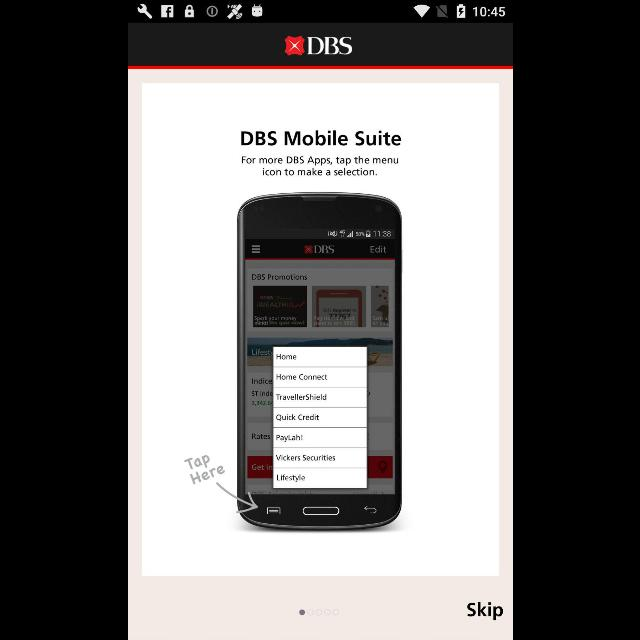image: (184, 192, 402, 532), (284, 36, 304, 56)
pageindicator: (298, 608, 339, 616)
text: (240, 156, 398, 176), (241, 130, 401, 146), (307, 37, 351, 55), (466, 602, 502, 620)
uppertaskbar: (128, 1, 512, 23)
